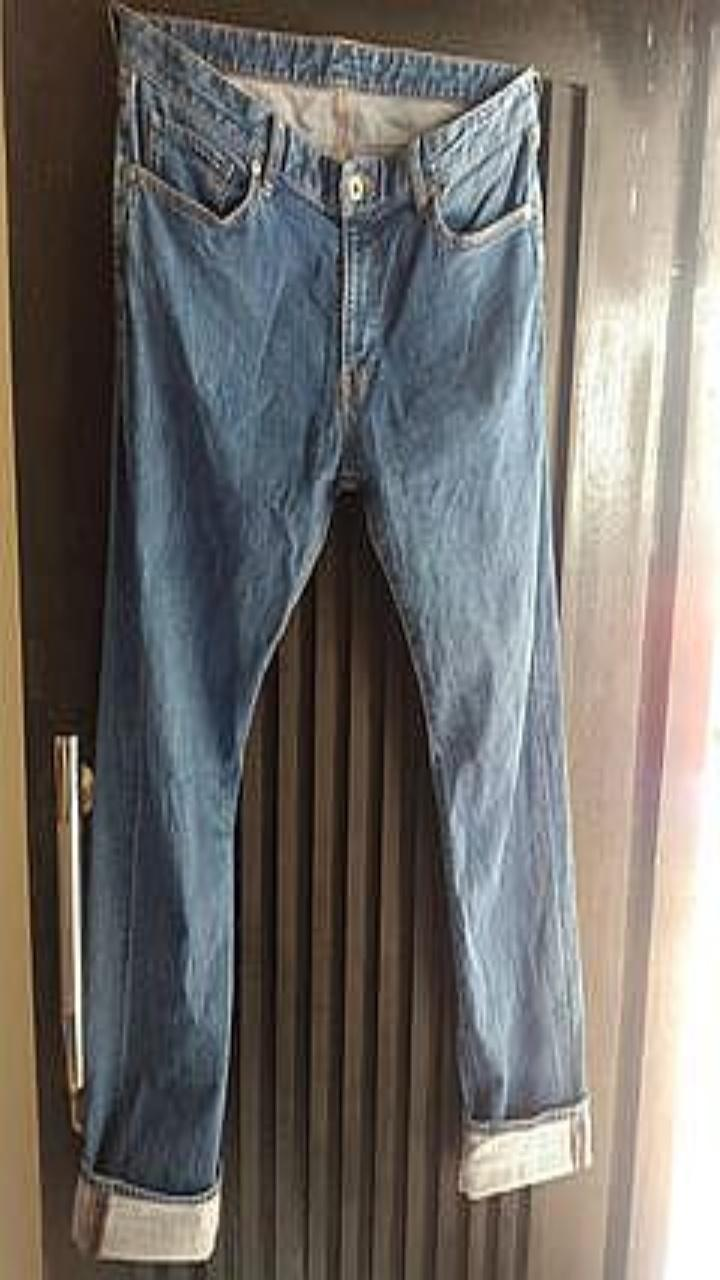Jeans: (73, 0, 591, 1260)
